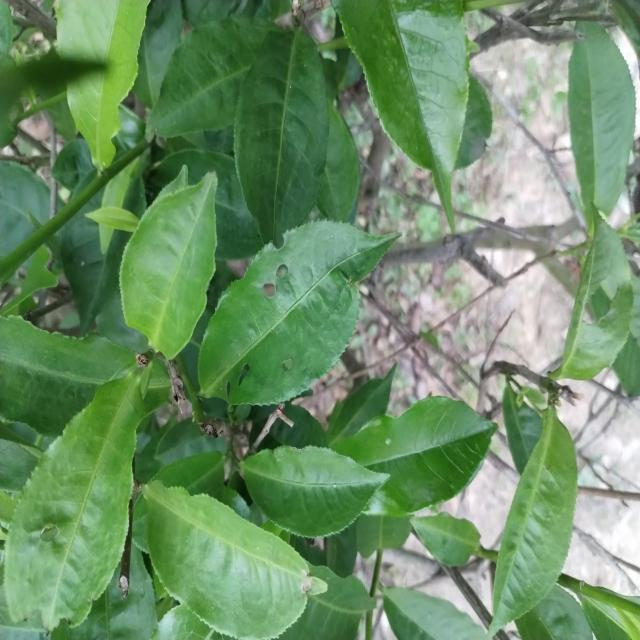Leaf: (198, 221, 400, 405), (5, 372, 143, 629), (334, 0, 469, 229), (143, 480, 326, 640), (234, 30, 328, 247), (488, 405, 577, 634), (333, 396, 497, 515), (120, 173, 217, 359), (0, 316, 137, 436), (57, 0, 149, 170), (148, 17, 275, 138), (241, 446, 389, 537), (550, 218, 633, 380), (568, 21, 635, 213), (152, 148, 264, 261), (59, 190, 131, 336), (70, 549, 157, 640), (276, 565, 375, 640), (136, 417, 225, 481), (327, 365, 396, 446), (383, 587, 484, 640), (134, 0, 183, 108), (316, 104, 360, 221), (0, 161, 50, 257), (515, 585, 592, 640), (411, 512, 480, 566), (503, 386, 542, 474), (455, 77, 492, 169), (152, 451, 225, 497), (267, 405, 328, 448), (356, 515, 411, 557), (53, 138, 95, 191), (581, 597, 630, 640), (325, 520, 357, 577), (143, 366, 170, 417), (122, 177, 147, 218), (132, 496, 148, 553)
